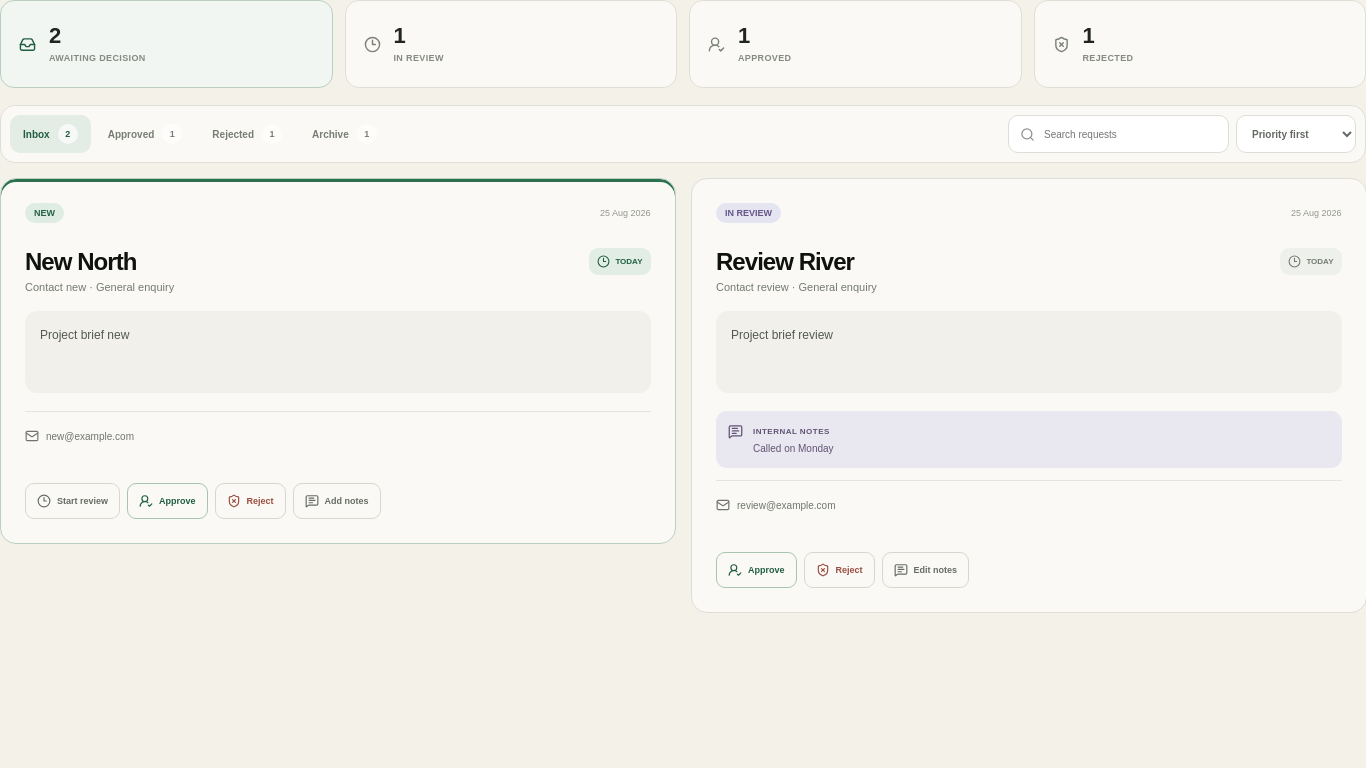
Scenario: ClientRequestManager › separates archived rejections and offers restoration
What coordinates should you click on to do the following:
click the tab "Archive 1"
I would click on:
 (344, 134)
Its box is [299, 115, 390, 153].
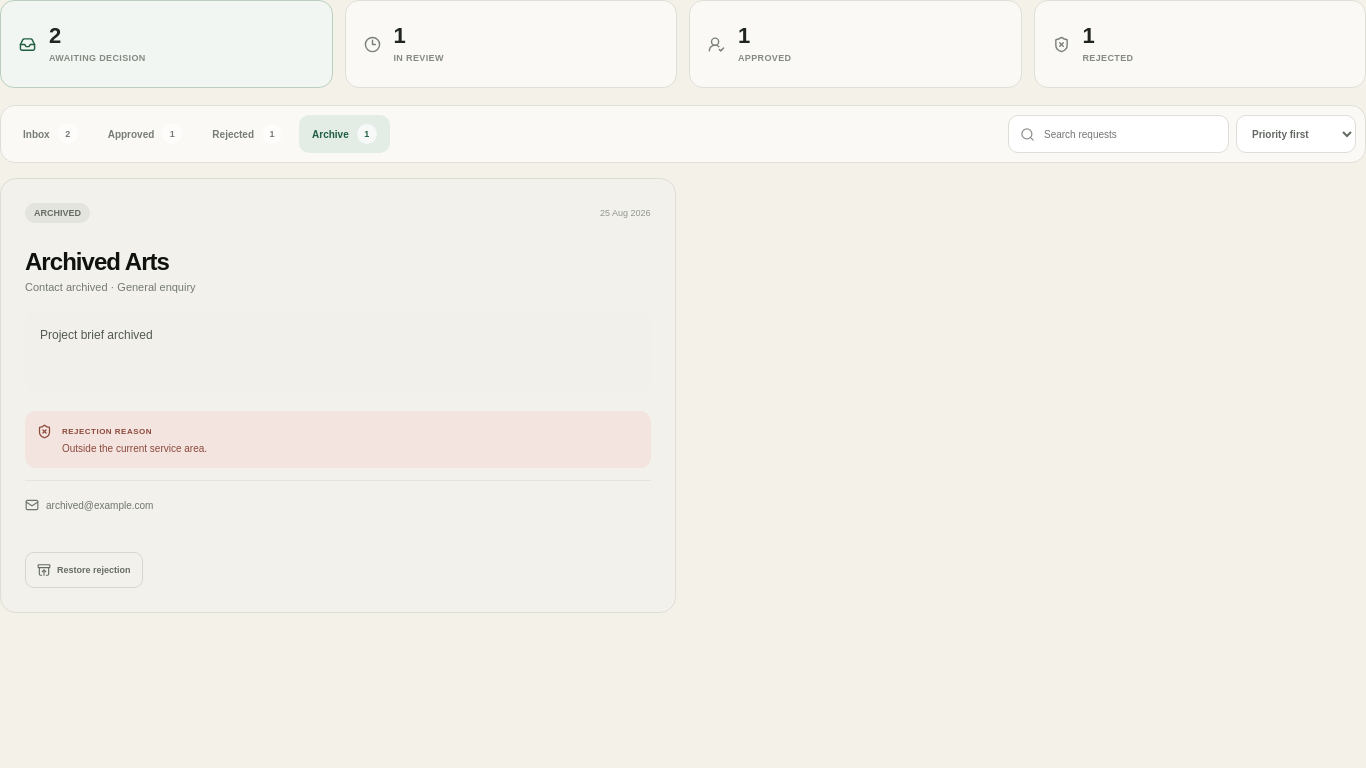
Now the text "Archived Arts" is shown, box [25, 248, 169, 275]
Now the text "Outside the current service area." is shown, box [62, 441, 207, 456]
Now the text "Restore rejection" is shown, box [25, 552, 142, 588]
